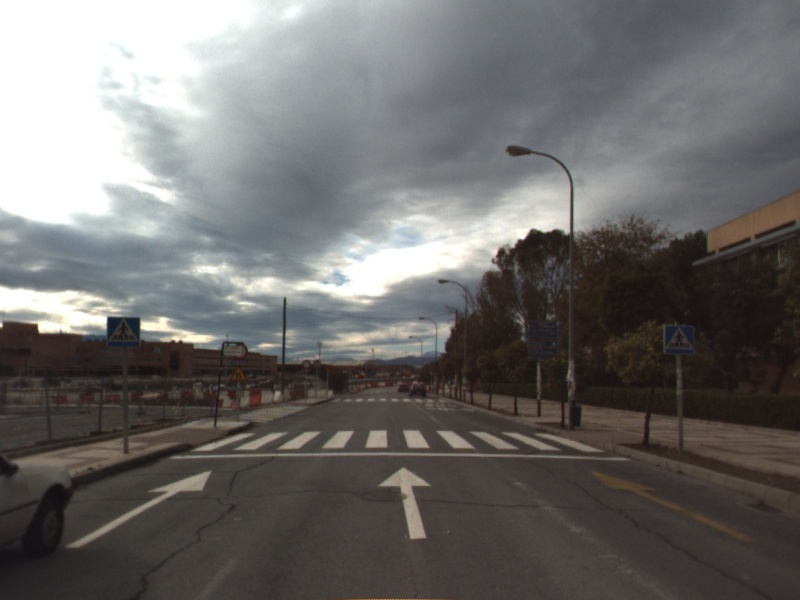STRAIGHT: (62, 468, 214, 550), (589, 469, 755, 543), (376, 464, 433, 540)
